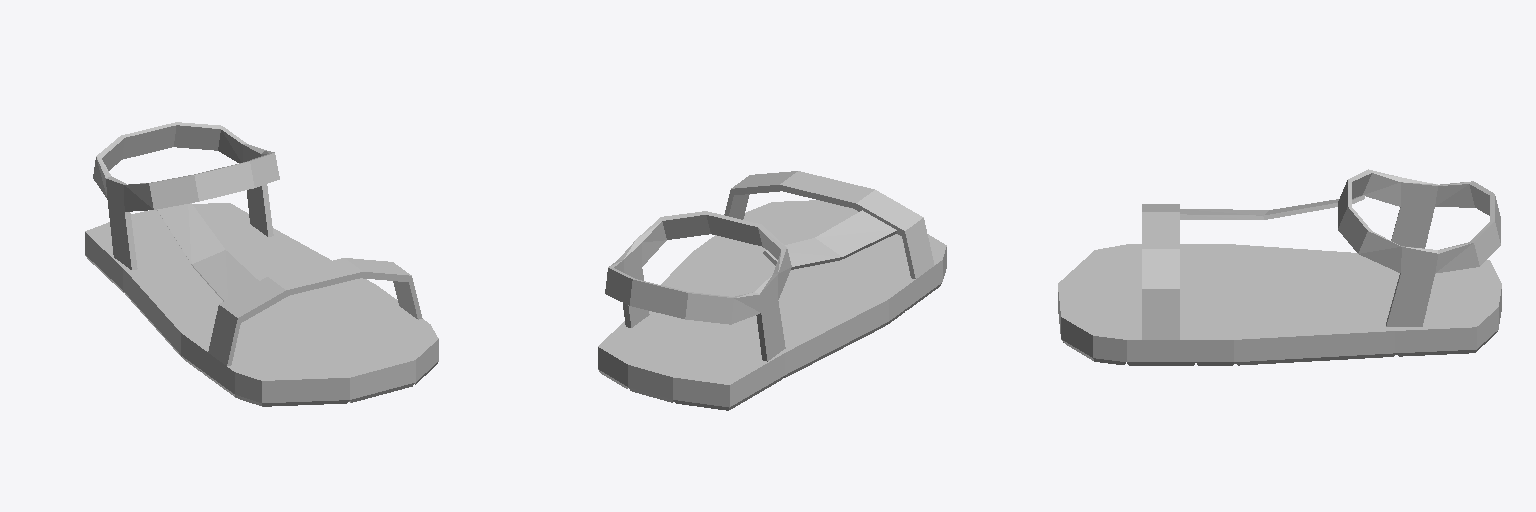
Rendered from Sandals.obj.
3 views of the same model, side by side, from view 1: azimuth 30°, elevation 25°; view 2: azimuth 150°, elevation 25°; view 3: azimuth 270°, elevation 25° (orthographic).
Parts seen in each view (by area): view 1: Sandal_Cube.035; view 2: Sandal_Cube.035; view 3: Sandal_Cube.035.
Boxes of the visible parts, <box> form: Sandal_Cube.035: <box>85,122,438,406</box>; Sandal_Cube.035: <box>598,171,946,410</box>; Sandal_Cube.035: <box>1058,169,1501,365</box>.
Size of the model in its own units: 4.91 by 3.02 by 9.65.